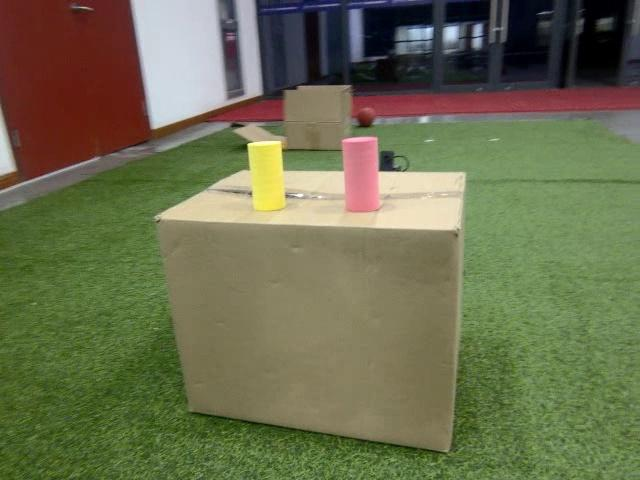red_ball: (354, 106, 377, 129)
red_cylinder: (340, 133, 384, 214)
yellow_cylinder: (241, 137, 288, 213)
